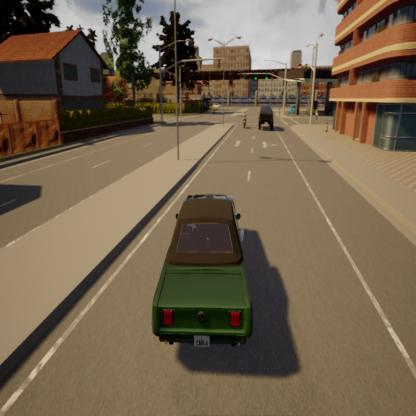Cars: (152, 195, 252, 350), (259, 103, 273, 130), (289, 102, 298, 114), (242, 108, 247, 128)
Pedestrian: (313, 105, 319, 125), (325, 120, 329, 135)
